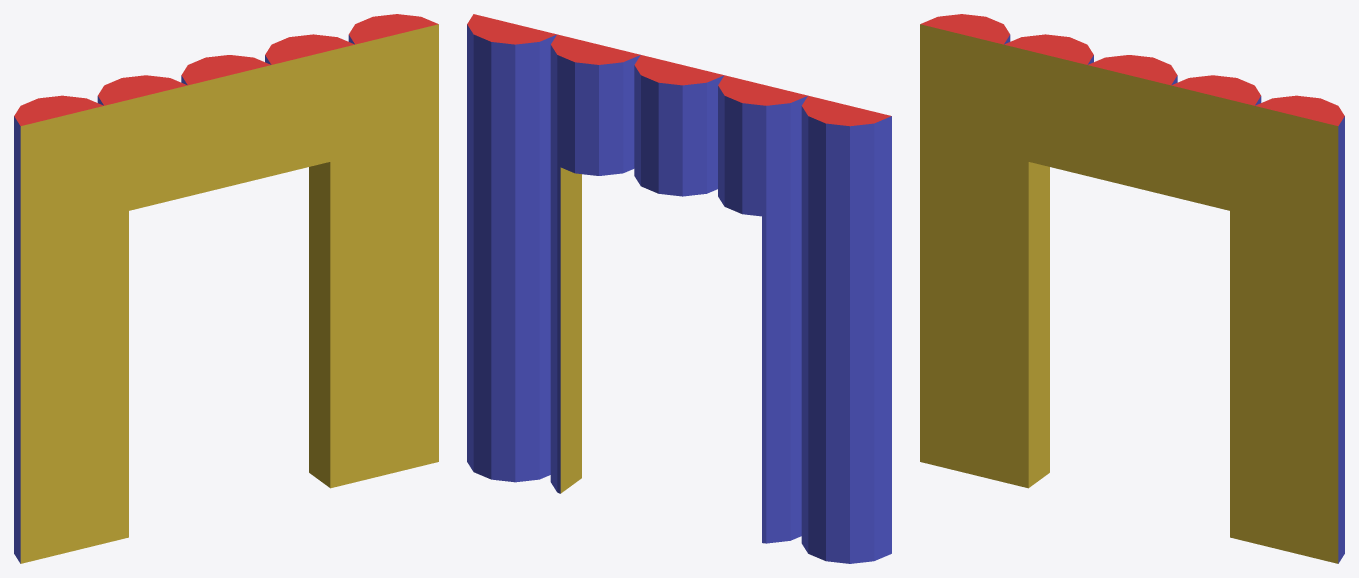
File: WoodenDoorway.fbx
The picture shows the model from 3 angles, left to right: view 1: azimuth 30°, elevation 25°; view 2: azimuth 150°, elevation 25°; view 3: azimuth 330°, elevation 25°; orthographic projection.
Visible parts, largest first — view 1: WoodenDoorway; view 2: WoodenDoorway; view 3: WoodenDoorway.
Part boxes in pixels (x1,y1,x2,y2): WoodenDoorway: (14,14,438,563); WoodenDoorway: (467,14,891,563); WoodenDoorway: (920,14,1344,563).
Size of the model in its own units: 650 by 650 by 65.
